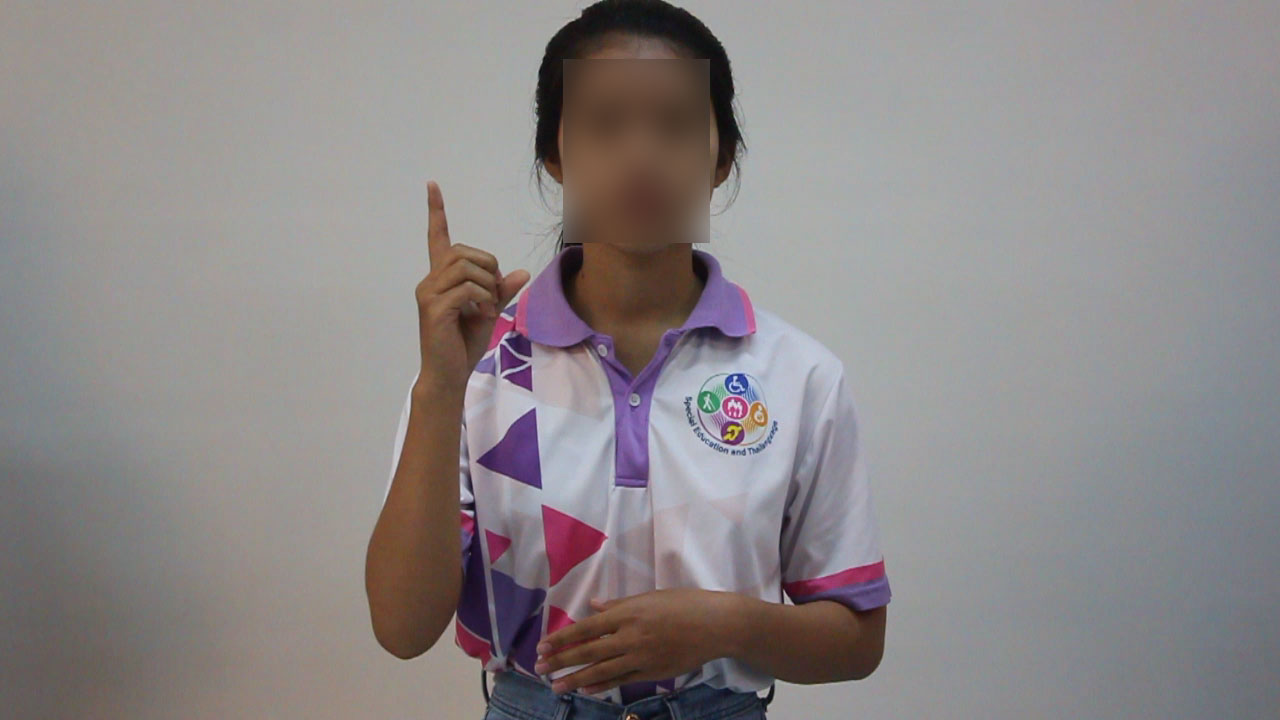dor: (407, 170, 538, 387)
